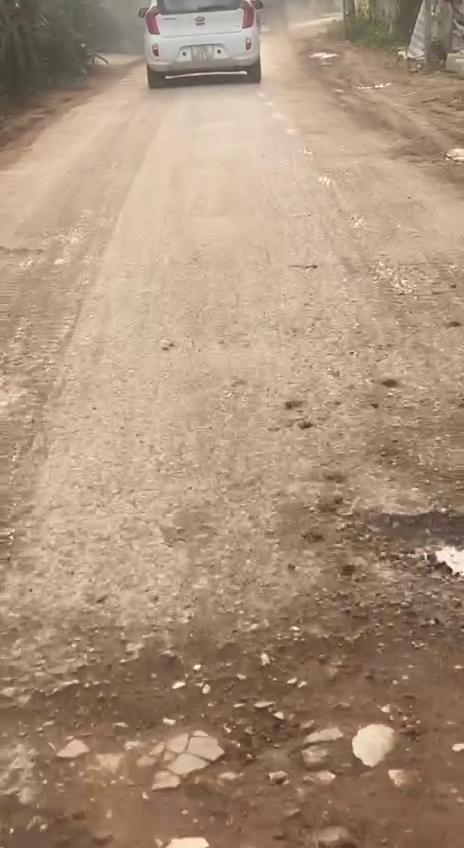pothole: (0, 610, 464, 848), (344, 502, 464, 606)
